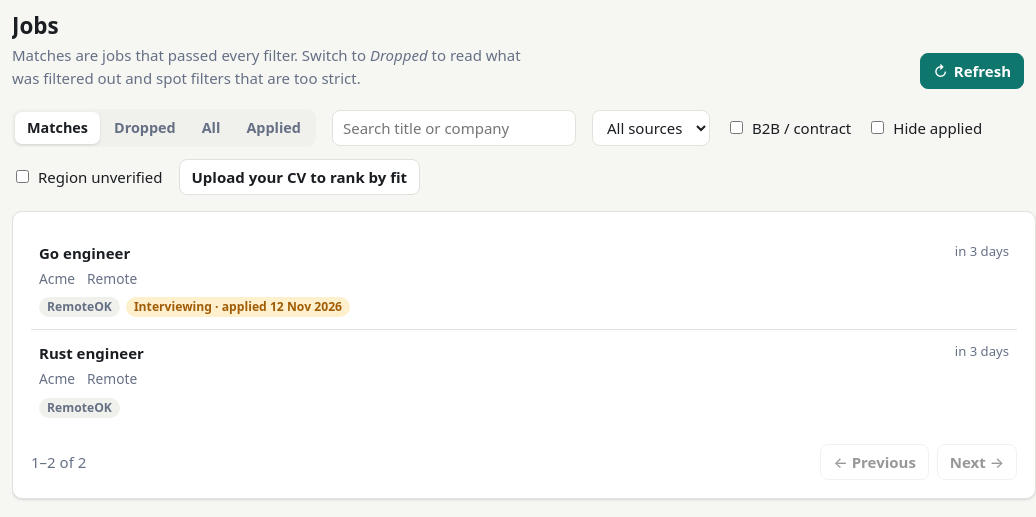
Test case: Jobs page: applications › has an Applied view that asks for everything you applied to
Expected: the text "Go engineer" is shown, [39,243,130,263]
Click the button "Applied": (274, 128) [234,112,313,144]
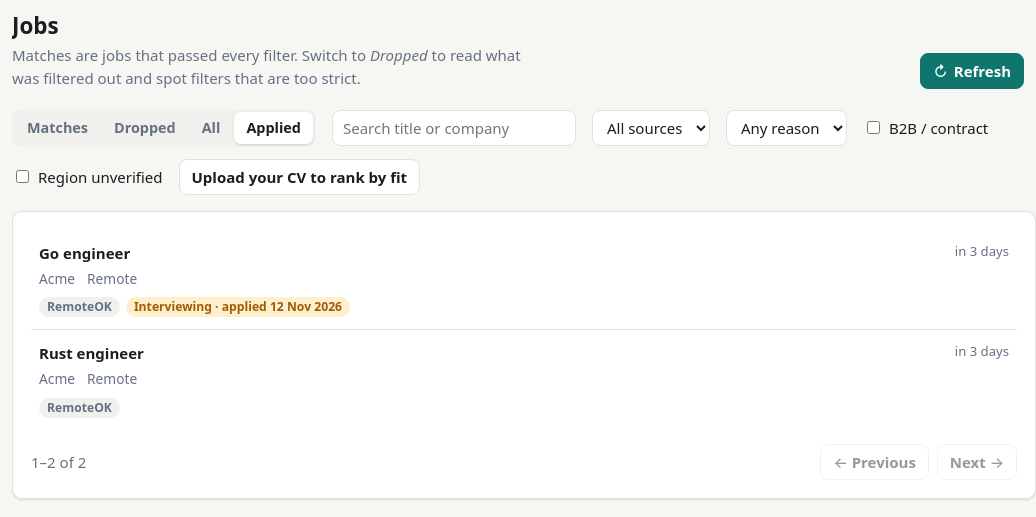
Now the label labelled "Hide applied" is gone
